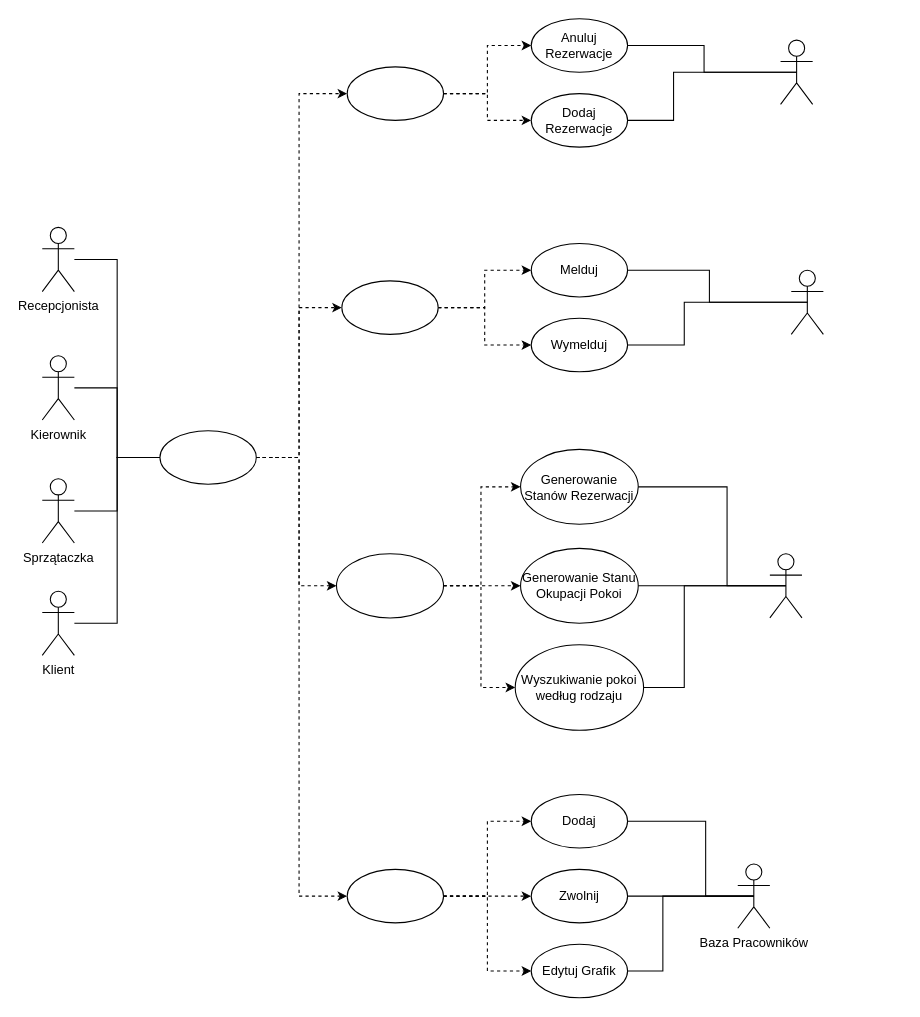
Some shapes in this 920 by 1017 pixel diagram are drawn without their labels. Each missing label, with the box of its shape:
Baza Pokoi: (769, 553, 802, 618)
Generowanie Raportu stanu pokoi: (335, 553, 444, 618)
Logowanie: (159, 430, 256, 484)
System zarządzania meldunkami: (790, 269, 823, 334)
System zarządzania rezerwacjami: (779, 39, 813, 104)
Zarządzanie Meldunkami: (341, 280, 438, 334)
Zarządzanie Pracownikami: (346, 868, 444, 923)
Zarządzanie Rezerwacjami: (346, 66, 444, 120)
